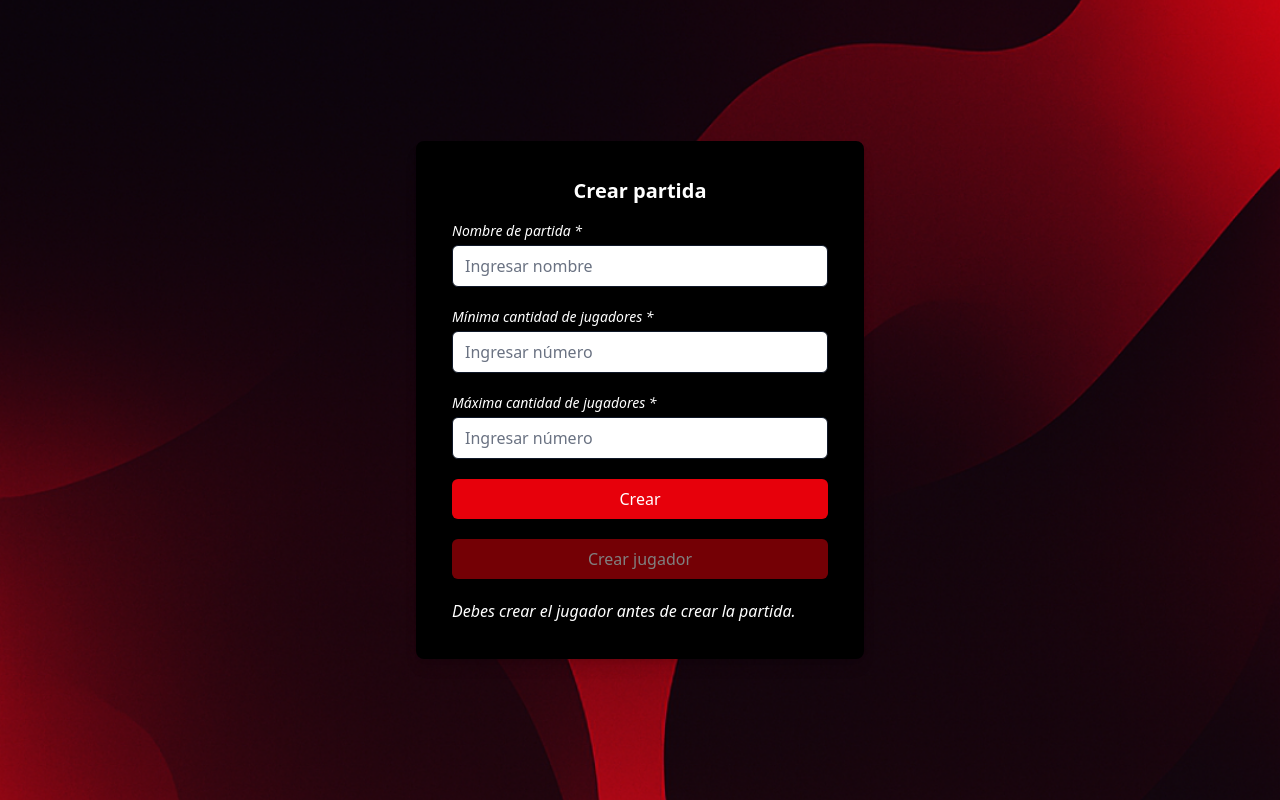
GameForm › Ingreso de datos › Se lanza error si no se ingresa un numero en la entrada 'Mínima cantidad de jugadores'
The image size is (1280, 800).
Type "a" into the field labelled "Mínima cantidad de jugadores *" at (640, 352), box [452,331,828,373]
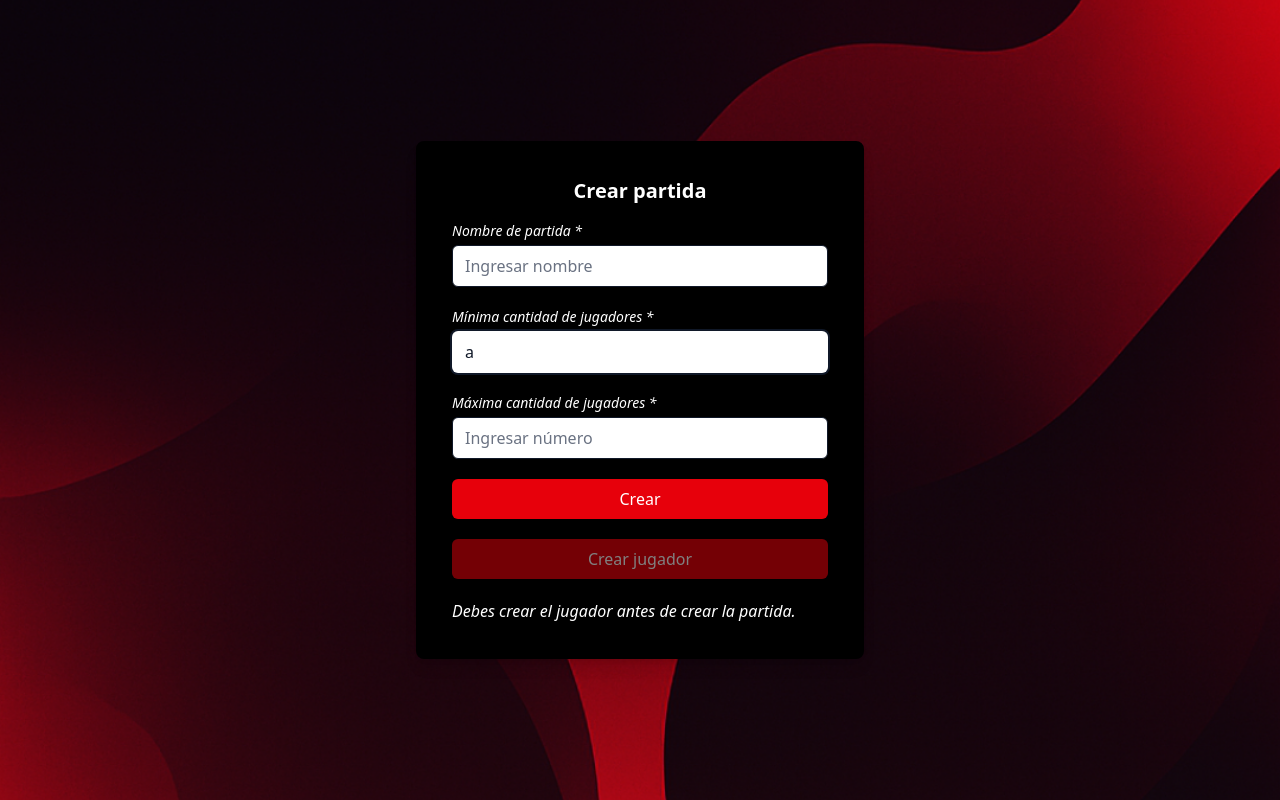
Click the button "Crear" at (640, 499), box [452,479,828,519]
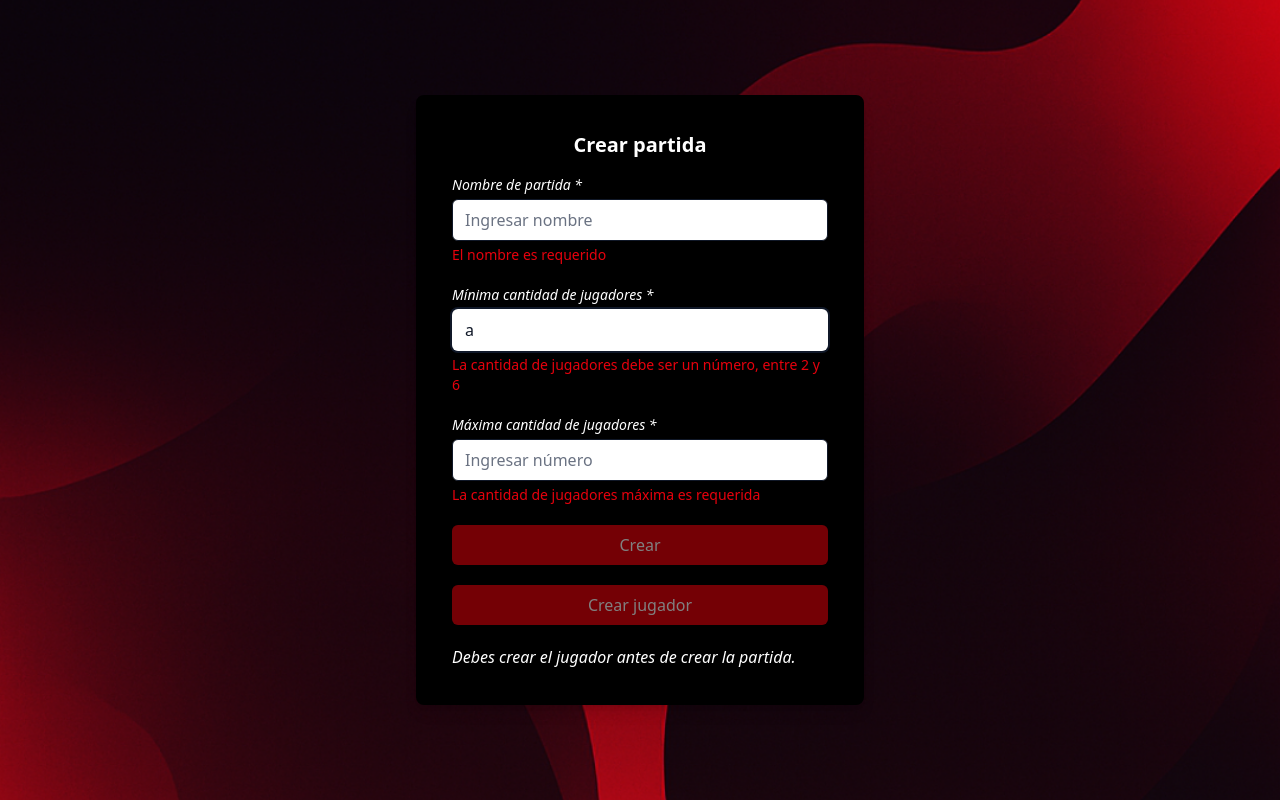
Expected: the text "La cantidad de jugadores debe ser un número, entre 2 y 6" is shown, [452,355,828,395]
